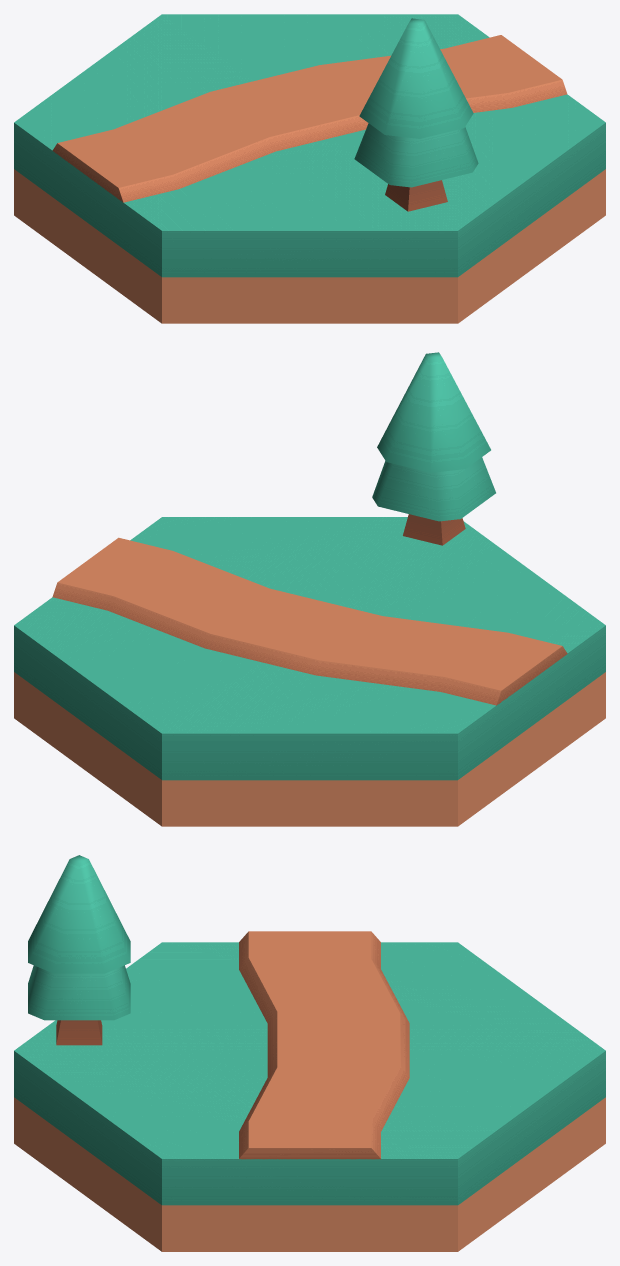
File: grass-path-straight-tree.glb
3 renders of one model, top to bottom at view 1: azimuth 30°, elevation 25°; view 2: azimuth 150°, elevation 25°; view 3: azimuth 270°, elevation 25°, orthographic.
Visible parts, largest first — view 1: grass, path-straight, unit-tree; view 2: grass, path-straight, unit-tree; view 3: grass, path-straight, unit-tree.
Part boxes in pixels (x1=…): grass: x1=14, y1=14, x2=605, y2=323; path-straight: x1=52, y1=35, x2=567, y2=202; unit-tree: x1=354, y1=18, x2=478, y2=211; grass: x1=14, y1=517, x2=605, y2=826; path-straight: x1=52, y1=537, x2=567, y2=705; unit-tree: x1=372, y1=352, x2=495, y2=545; grass: x1=14, y1=942, x2=605, y2=1251; path-straight: x1=239, y1=931, x2=409, y2=1159; unit-tree: x1=28, y1=855, x2=130, y2=1045.
Size of the model in its own units: 1 by 0.603 by 1.15.
1 material, 1 textured.
